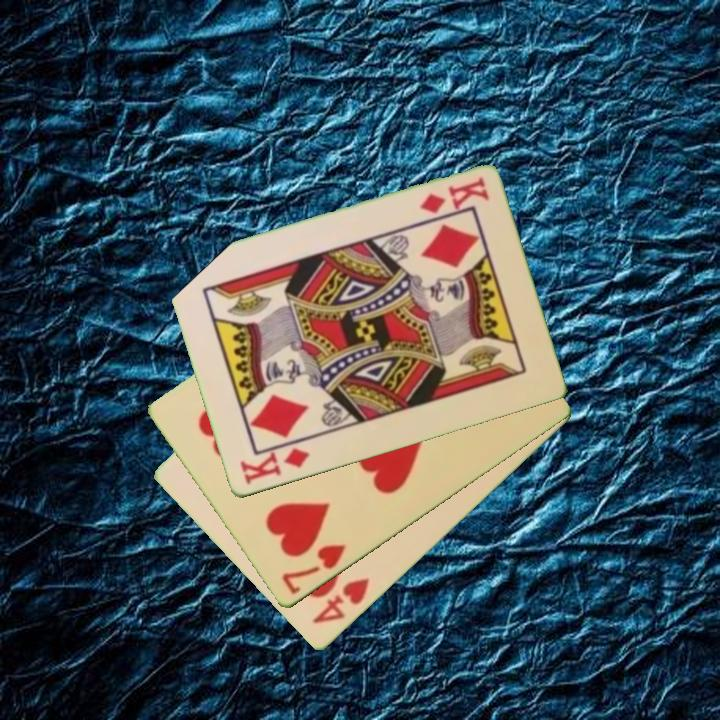4h: (309, 574, 373, 627)
7h: (278, 541, 349, 598)
Kd: (236, 445, 313, 488), (416, 174, 492, 217)
